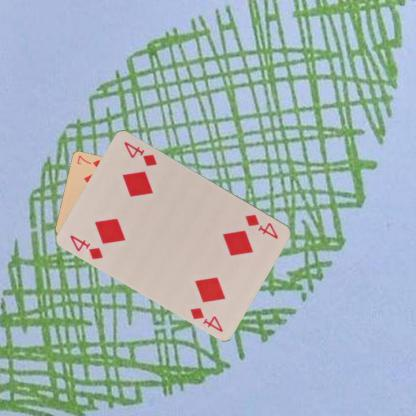4d: (242, 211, 280, 240), (67, 232, 104, 260)
